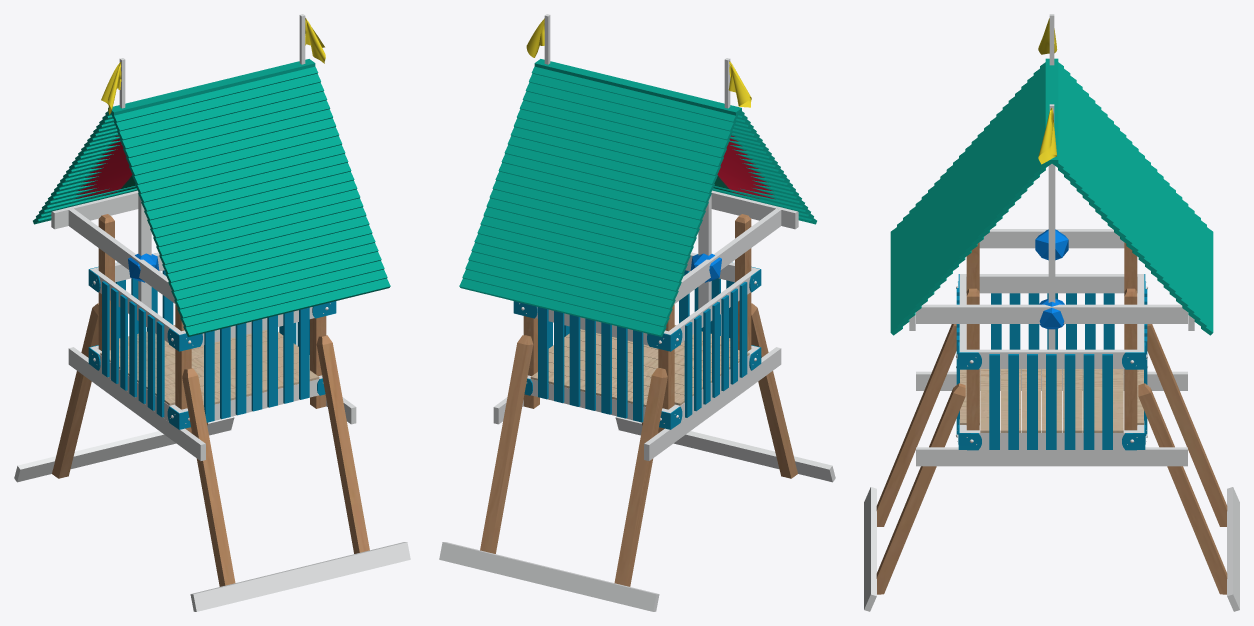
The picture shows the model from 3 angles, left to right: view 1: azimuth 30°, elevation 25°; view 2: azimuth 150°, elevation 25°; view 3: azimuth 270°, elevation 25°; orthographic projection. The views are drawn at different scales.
Parts seen in each view (by area): view 1: roof_poly, Plane091, Plane091_1.001, Plane091_1, roof_poly_1, Summit_corner001,_colorize_, roof_canopy,#004983,#01664b,#ffcb05,#93293b,tricolors, fence,_colorize__24, fence,_colorize__2, fence,_colorize__4, fence,_colorize__5, fence,_colorize__1 (+9 smaller); view 2: roof_poly, Plane091, Plane091_1.001, Plane091_1, roof_poly_1, Summit_corner001,_colorize_, roof_canopy,#004983,#01664b,#ffcb05,#93293b,tricolors, fence,_colorize__14, fence,_colorize__25, fence,_colorize__15, fence,_colorize__17, fence,_colorize__12 (+10 smaller); view 3: roof_poly, Plane091, Plane091_1.001, Plane091_1, Summit_corner001,_colorize_, fence,_colorize__10, fence,_colorize__9, fence,_colorize__11, fence,_colorize__26, fence,_colorize__6, fence,_colorize__7, fence,_colorize__8 (+4 smaller).
Boxes of the visible parts, box(x1,y1,x2,y2) form: roof_poly: box(33, 66, 390, 336); Plane091: box(14, 14, 410, 611); Plane091_1.001: box(52, 214, 369, 586); Plane091_1: box(100, 325, 319, 405); roof_poly_1: box(108, 59, 315, 115); Summit_corner001,_colorize_: box(88, 266, 336, 429); roof_canopy,#004983,#01664b,#ffcb05,#93293b,tricolors: box(74, 135, 136, 199); fence,_colorize__24: box(251, 319, 262, 411); fence,_colorize__2: box(235, 323, 246, 415); fence,_colorize__4: box(283, 311, 293, 403); fence,_colorize__5: box(299, 307, 309, 399); fence,_colorize__1: box(220, 327, 230, 419); roof_poly: box(459, 66, 816, 336); Plane091: box(439, 14, 835, 611); Plane091_1.001: box(480, 214, 797, 586); Plane091_1: box(530, 325, 749, 406); roof_poly_1: box(534, 59, 741, 115); Summit_corner001,_colorize_: box(513, 266, 761, 429); roof_canopy,#004983,#01664b,#ffcb05,#93293b,tricolors: box(713, 135, 775, 199); fence,_colorize__14: box(569, 315, 580, 406); fence,_colorize__25: box(585, 318, 595, 410); fence,_colorize__15: box(601, 322, 611, 414); fence,_colorize__17: box(633, 330, 643, 422); fence,_colorize__12: box(538, 307, 548, 399); roof_poly: box(890, 62, 1213, 335); Plane091: box(864, 14, 1239, 611); Plane091_1.001: box(876, 242, 1227, 594); Plane091_1: box(960, 369, 1143, 432); Summit_corner001,_colorize_: box(958, 274, 1145, 450); fence,_colorize__10: box(1083, 354, 1094, 449); fence,_colorize__9: box(1064, 354, 1075, 449); fence,_colorize__11: box(1102, 354, 1112, 449); fence,_colorize__26: box(1046, 354, 1056, 449); fence,_colorize__6: box(989, 354, 999, 449); fence,_colorize__7: box(1008, 354, 1018, 449); fence,_colorize__8: box(1027, 354, 1037, 449).
Size of the model in its own units: 2.21 by 4.55 by 3.11.
36 materials, 3 textured.
